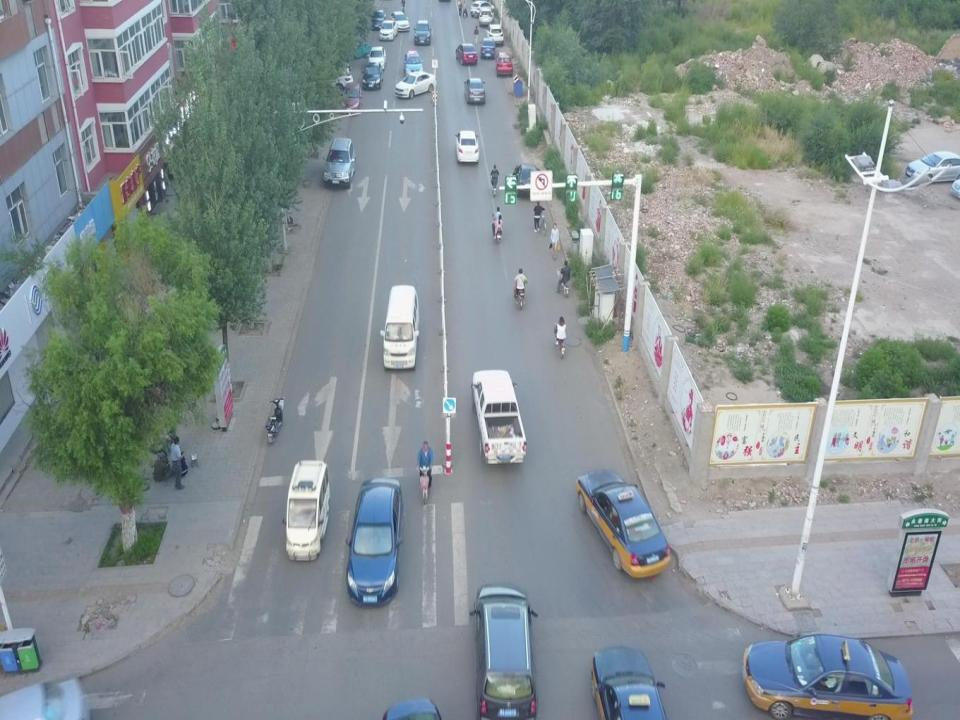car: (742, 630, 912, 720), (576, 470, 672, 577), (345, 477, 405, 606), (591, 645, 670, 720), (905, 152, 960, 185), (395, 70, 437, 99), (512, 164, 541, 197), (266, 397, 286, 442), (340, 83, 362, 115), (362, 62, 383, 90), (464, 78, 485, 105), (403, 51, 423, 77), (367, 46, 385, 71), (456, 44, 477, 65), (390, 10, 410, 32), (414, 21, 431, 45), (379, 19, 397, 40), (368, 9, 386, 29), (480, 38, 496, 58)
truck: (472, 370, 526, 464)
van: (469, 583, 538, 720), (282, 459, 330, 560), (380, 285, 420, 370), (322, 138, 356, 188), (312, 66, 353, 92), (455, 131, 480, 164), (494, 52, 514, 75), (470, 1, 494, 18), (485, 24, 503, 45), (479, 7, 494, 27)
